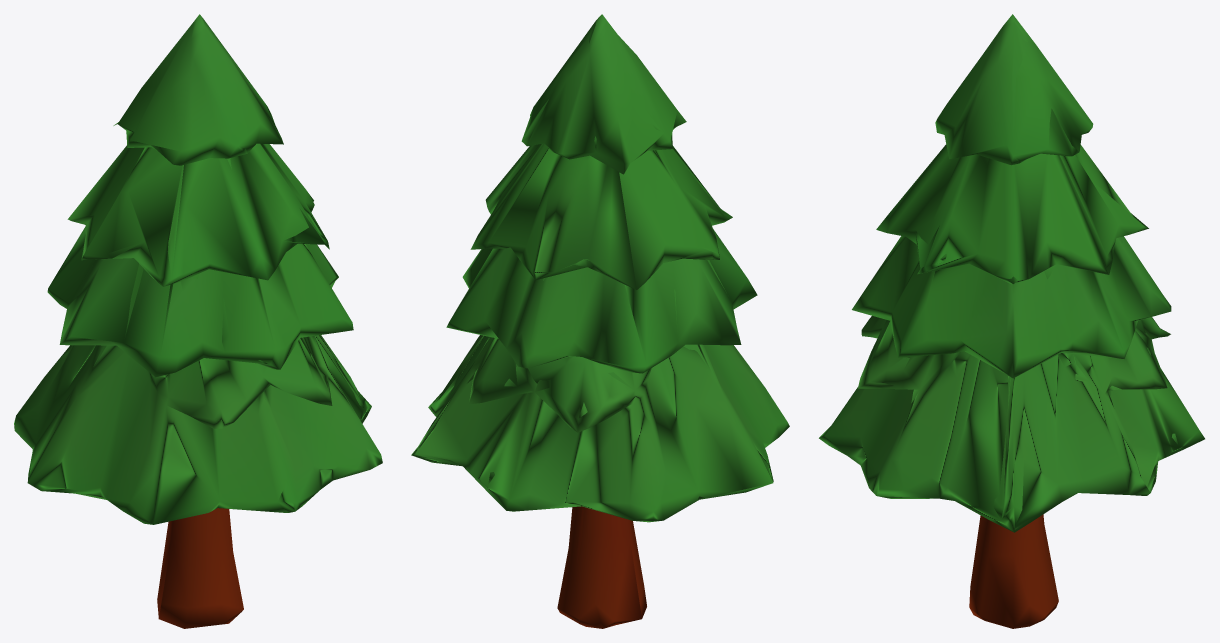
File: gen3d-larch-tree-lod0.glb
3 renders of one model, left to right at view 1: azimuth 30°, elevation 25°; view 2: azimuth 150°, elevation 25°; view 3: azimuth 270°, elevation 25°, orthographic.
Visible parts, largest first — view 1: part_0; view 2: part_0; view 3: part_0.
Part boxes in pixels (x1,y1,x2,y2): part_0: (14,14,382,628); part_0: (411,14,789,628); part_0: (819,14,1204,628).
Bounding box in the file's own units: 0.6039 × 1 × 0.588.
